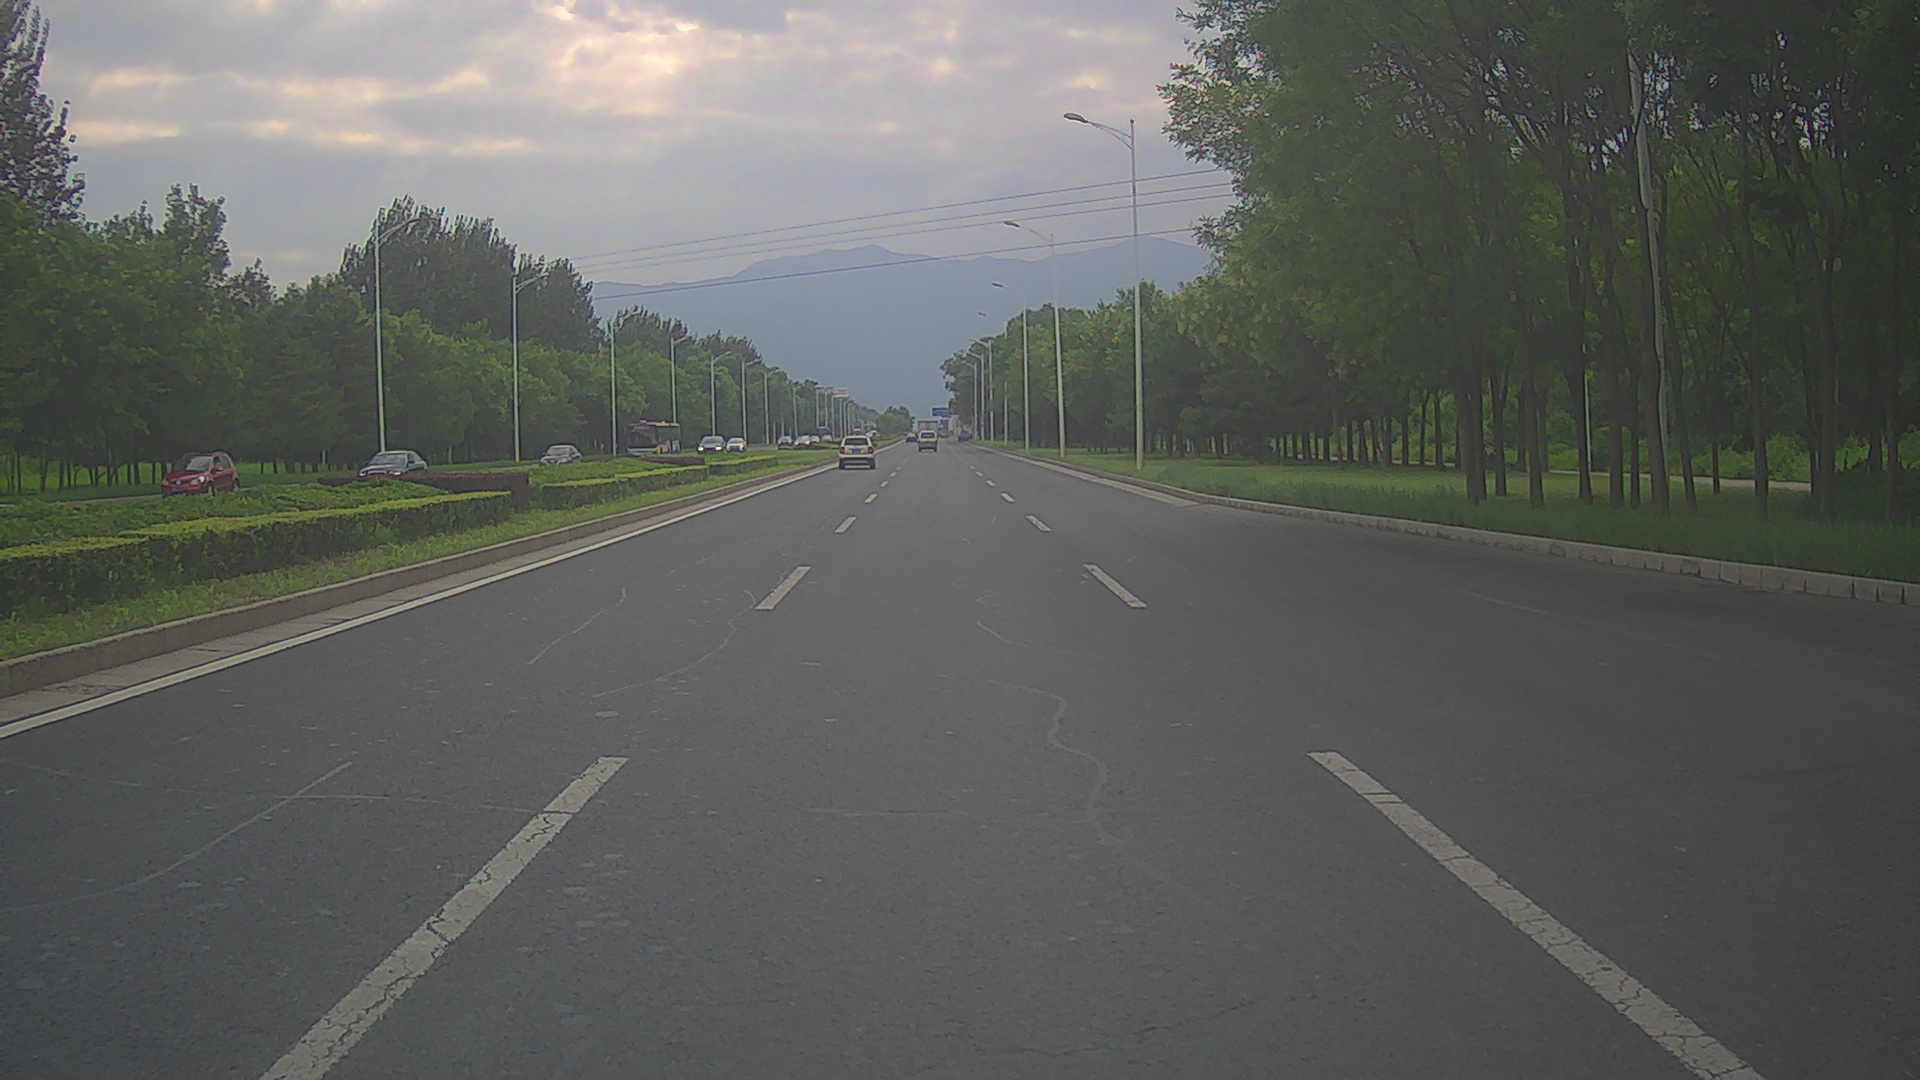bus: (624, 419, 680, 458), (814, 425, 832, 443)
car: (160, 450, 237, 500), (357, 450, 427, 485), (837, 435, 878, 468), (539, 444, 582, 468), (696, 435, 727, 455), (725, 436, 746, 452), (775, 434, 793, 447), (793, 435, 811, 447), (818, 433, 833, 443), (905, 433, 918, 443), (808, 434, 820, 444)
ignore: (852, 425, 877, 436), (938, 426, 949, 436)
truck: (916, 419, 938, 443), (956, 425, 972, 442)
van: (916, 430, 938, 452)
